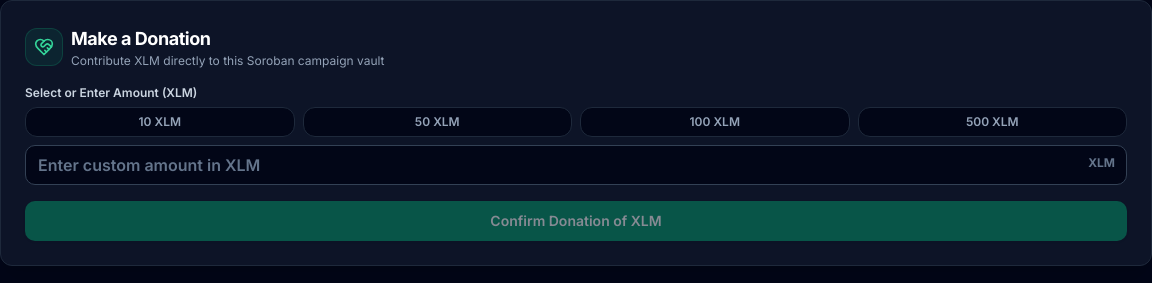
Test case: DonationForm Component › renders preset amount buttons and updates custom input
Expected: the number field named "donation amount" is shown, [25,145,1127,185]
Click the button "100 XLM".
click(715, 122)  # box [580,107,850,137]
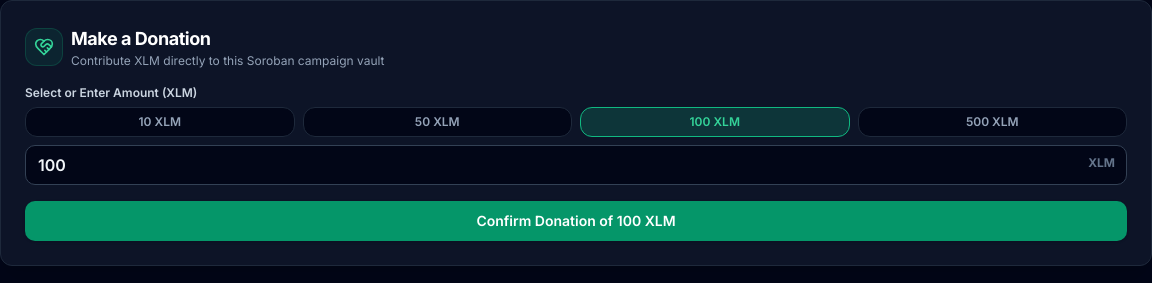
Expected: the number field named "donation amount" holds "100", [25,145,1127,185]
